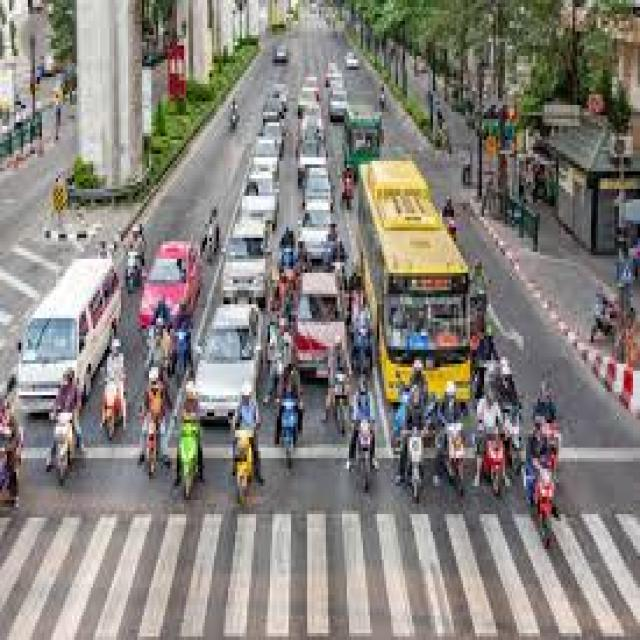moderate_traffic: (141, 46, 512, 516)
